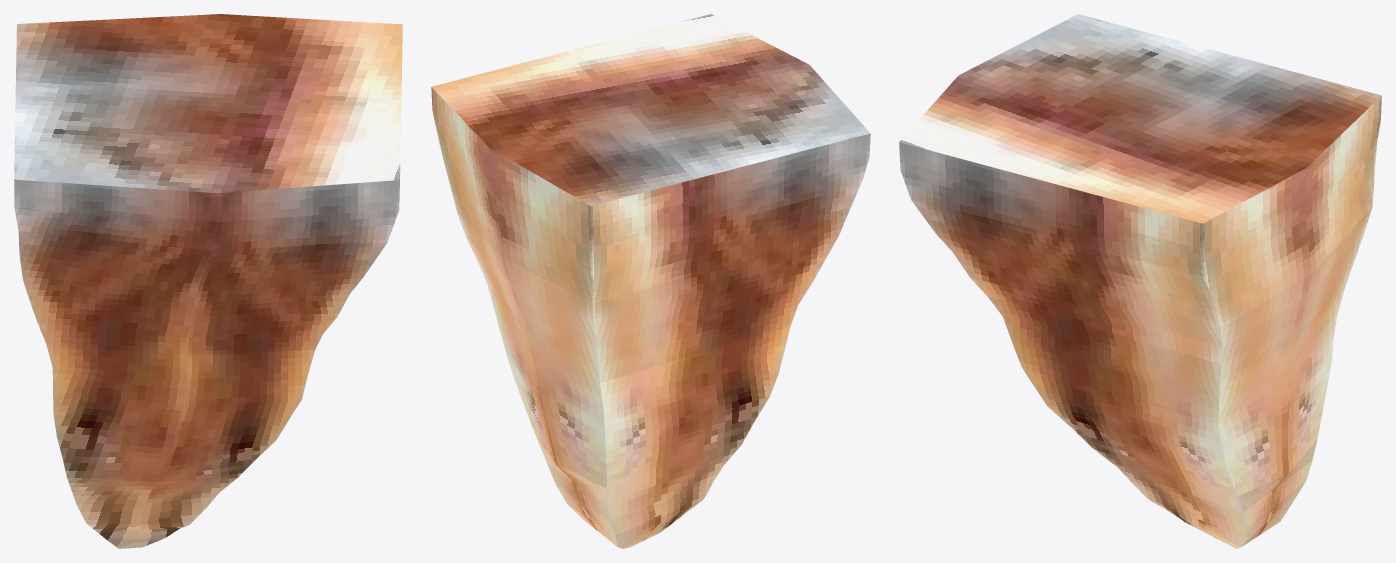
3 renders of one model, left to right at view 1: azimuth 30°, elevation 25°; view 2: azimuth 150°, elevation 25°; view 3: azimuth 270°, elevation 25°, orthographic. The views are drawn at different scales.
Visible parts, largest first — view 1: splice_1; view 2: splice_1; view 3: splice_1.
Boxes of the visible parts, x1,y1,x2,y2 form: splice_1: (14,14,402,548); splice_1: (431,14,870,548); splice_1: (899,14,1381,548).
Size of the model in its own units: 0.8663 by 0.8632 by 0.8652.
1 material, 1 textured.
